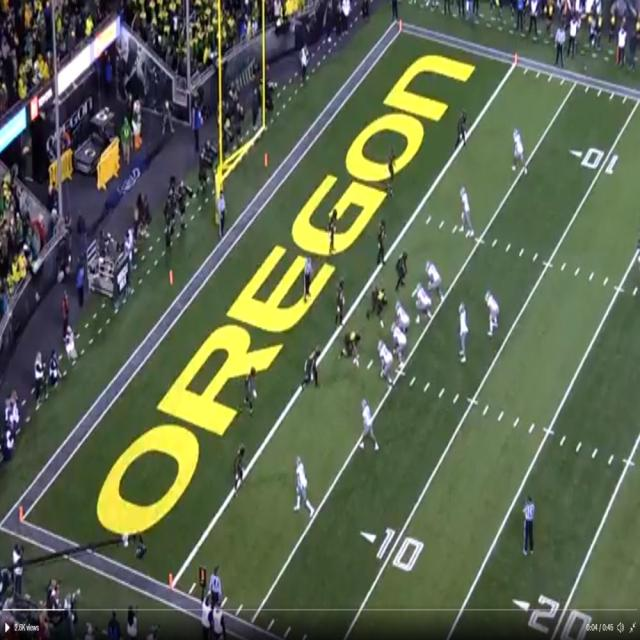center: (396, 301, 408, 329)
db: (244, 368, 260, 415), (234, 442, 248, 494), (385, 147, 397, 197), (460, 109, 470, 148), (330, 209, 339, 252)
lb: (332, 274, 349, 322), (304, 347, 322, 385), (377, 217, 388, 267)
qb: (457, 302, 468, 360)
skill: (363, 398, 378, 451), (487, 290, 502, 334), (297, 456, 309, 510), (514, 127, 528, 171), (460, 185, 470, 235)
